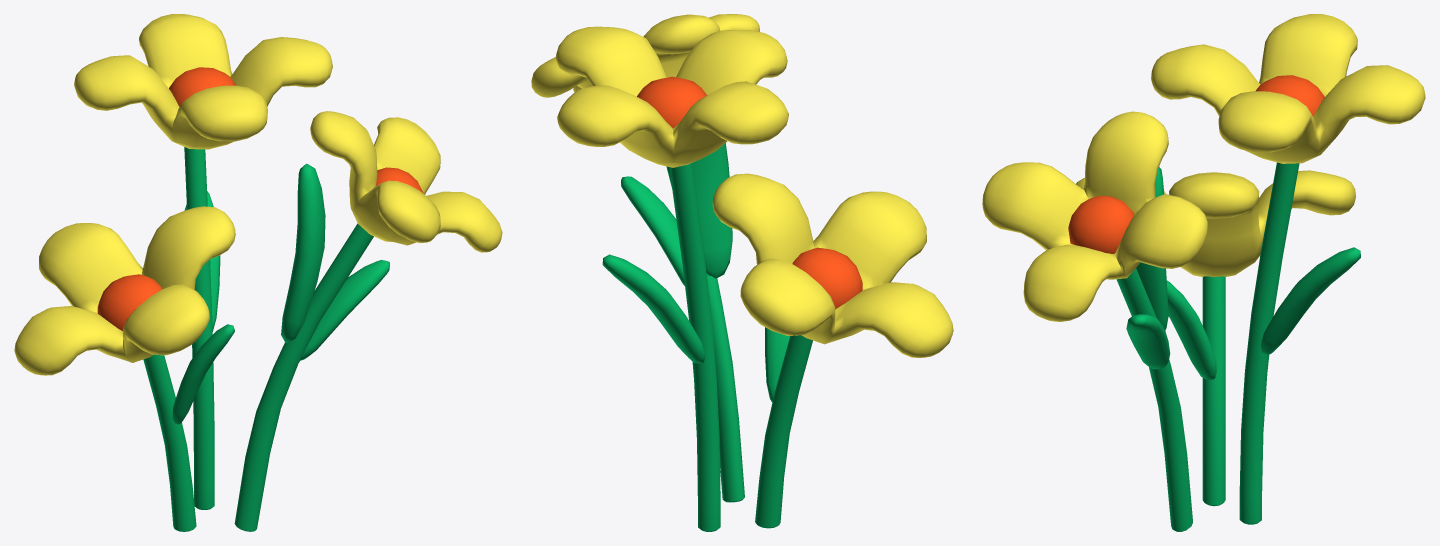
Rendered from Farm_17_Flowers_1.glb.
The picture shows the model from 3 angles, left to right: view 1: azimuth 30°, elevation 25°; view 2: azimuth 150°, elevation 25°; view 3: azimuth 270°, elevation 25°; orthographic projection. The views are drawn at different scales.
Visible parts, largest first — view 1: Farm_17_Flowers_1; view 2: Farm_17_Flowers_1; view 3: Farm_17_Flowers_1.
Part boxes in pixels (left/top/right/bottom): Farm_17_Flowers_1: left=14, top=14, right=502, bottom=531; Farm_17_Flowers_1: left=531, top=14, right=953, bottom=531; Farm_17_Flowers_1: left=982, top=14, right=1425, bottom=531.
Size of the model in its own units: 1.24 by 1.27 by 1.08.
1 material, 1 textured.
